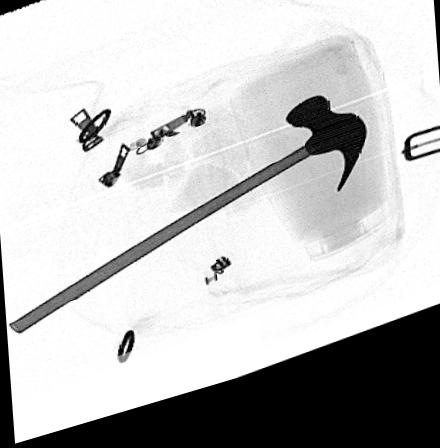Hammer: (8, 112, 369, 334)
